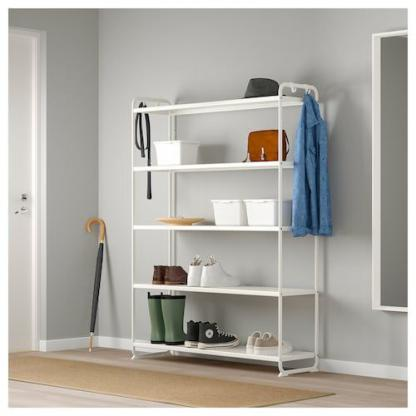lamp: (131, 81, 321, 378)
